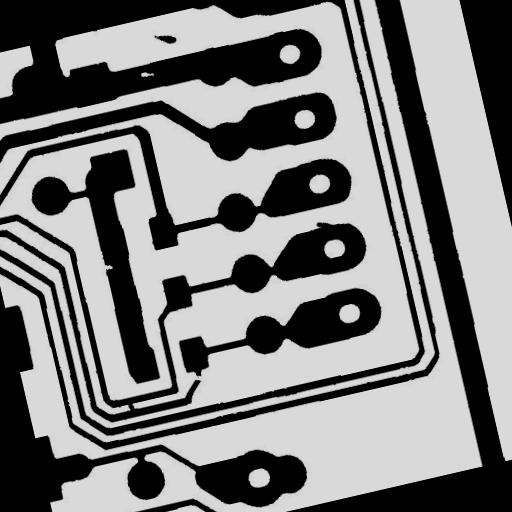copper: (144, 22, 186, 56)
mousebite: (93, 254, 122, 279)
open: (183, 364, 213, 390)
pin-hole: (132, 61, 164, 88)
short: (118, 390, 144, 420)
spur: (307, 210, 346, 240)
